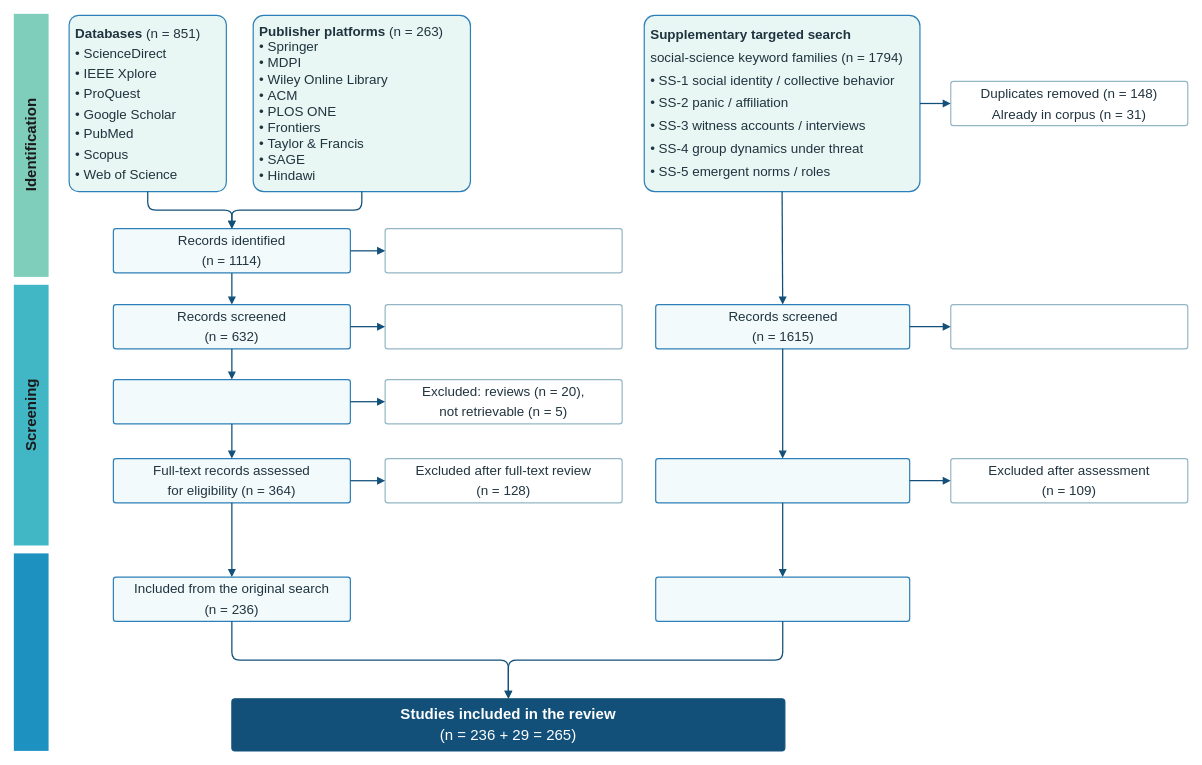
This 1202x765 diagram has some shape labels left out. Here are the shapes that lost their labels. From the top down, the centre of each, then its label:
At pixel 503 250: "Duplicate records removed (n = 482)".
At pixel 503 326: "Excluded after title and abstract (n = 243)".
At pixel 1069 326: "Excluded after title and abstract (n = 1477)".
At pixel 231 401: "Records sought for retrieval (n = 389)".
At pixel 782 480: "Full records assessed for eligibility (n = 138)".
At pixel 782 599: "Included from the supplementary search (n = 29)".
At pixel 30 651: "Included".
